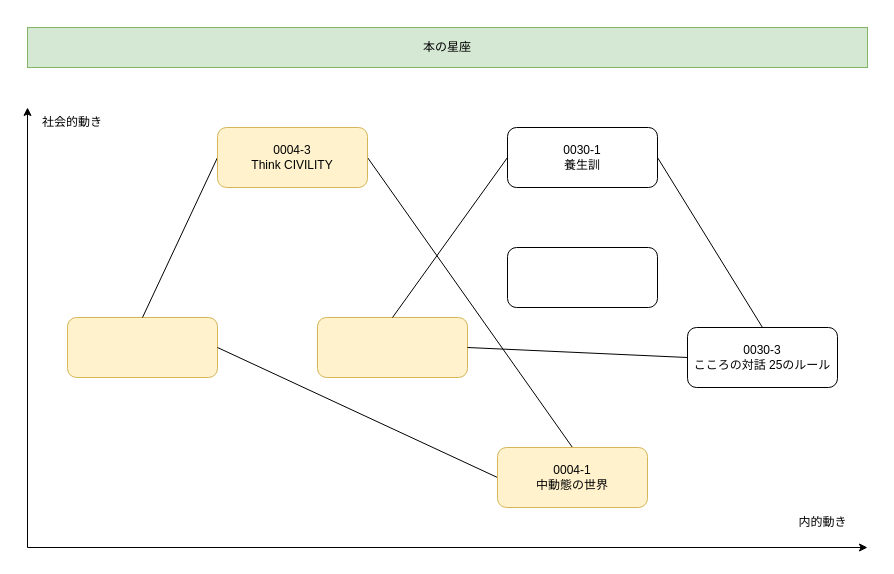
This 894x574 diagram has some shape labels left out. Here are the shapes that lost their labels. From the top down, the box of each, then its label:
(506, 246, 658, 308): 0030-0 センス・オブ・ワンダー
(66, 316, 218, 378): 0004-2 機嫌のデザイン
(316, 316, 468, 378): 0030-2＝0004-0 丁寧道
